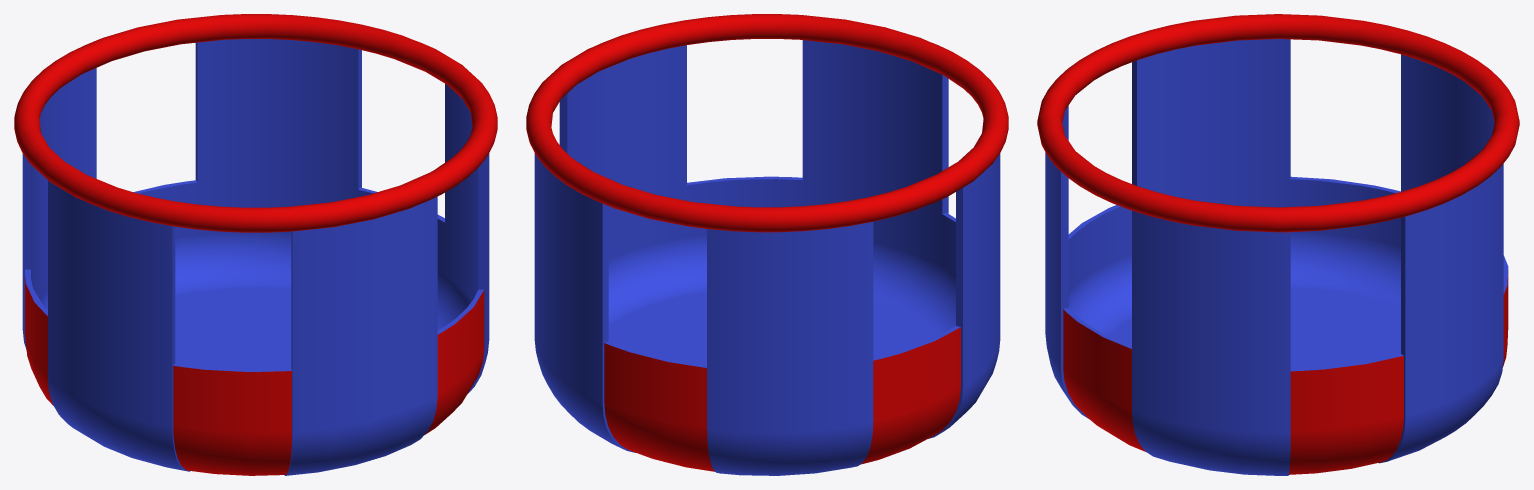
File: TransportCart.gltf
The picture shows the model from 3 angles, left to right: view 1: azimuth 30°, elevation 25°; view 2: azimuth 150°, elevation 25°; view 3: azimuth 270°, elevation 25°; orthographic projection.
Visible parts, largest first — view 1: TrainPart; view 2: TrainPart; view 3: TrainPart.
Boxes of the visible parts, left/top/right/bottom form: TrainPart: left=14, top=14, right=497, bottom=475; TrainPart: left=526, top=14, right=1008, bottom=475; TrainPart: left=1037, top=14, right=1519, bottom=475.
Bounding box in the file's own units: 2283 × 1713 × 2283.
